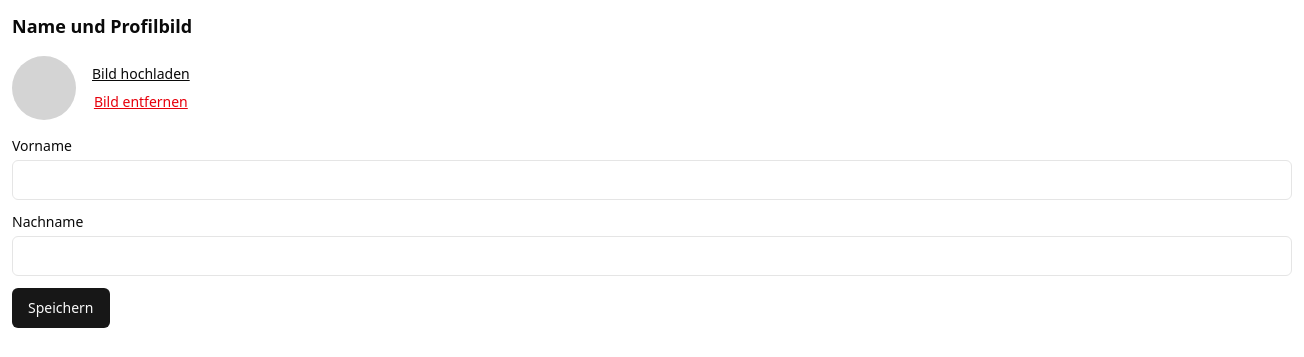
it: NameAvatarSection › shows an error message when removing the avatar fails at the network level
The image size is (1304, 357).
Click the button "Bild entfernen": (141, 102) x1=92 y1=92 x2=190 y2=112
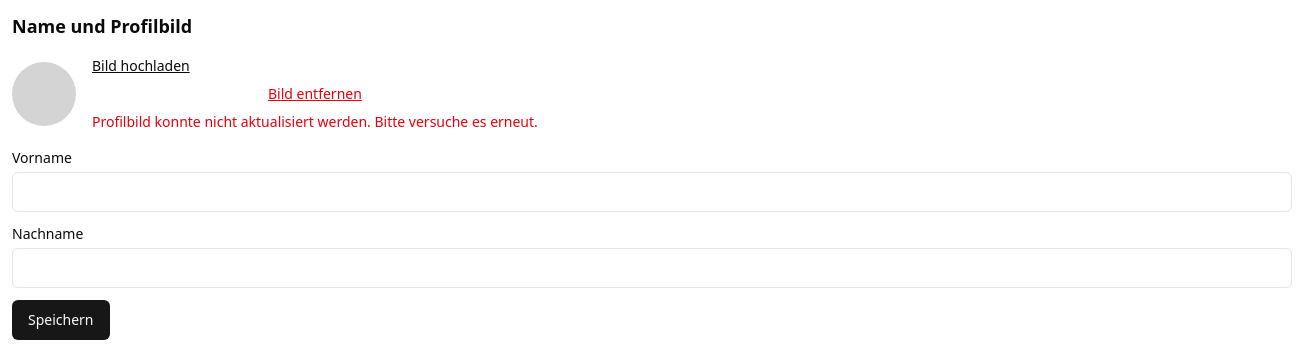
Expected: the text "Profilbild konnte nicht aktualisiert werden. Bitte versuche es erneut." is shown, x1=92 y1=112 x2=538 y2=132
